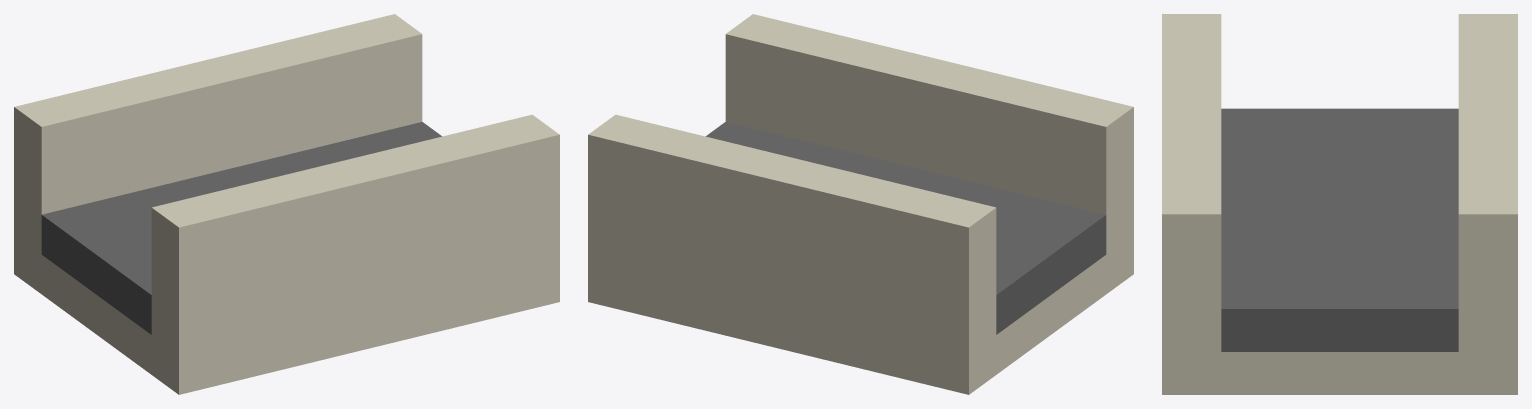
The model's file is roadTile_228.obj.
3 views of the same model, side by side, from view 1: azimuth 30°, elevation 25°; view 2: azimuth 150°, elevation 25°; view 3: azimuth 270°, elevation 25° (orthographic). The views are drawn at different scales.
Parts seen in each view (by area): view 1: Mesh1_Group1_Model.227; view 2: Mesh1_Group1_Model.227; view 3: Mesh1_Group1_Model.227.
Boxes of the visible parts, x1,y1,x2,y2 form: Mesh1_Group1_Model.227: (14, 14, 559, 394); Mesh1_Group1_Model.227: (588, 14, 1133, 394); Mesh1_Group1_Model.227: (1162, 14, 1517, 394).
Bounding box in the file's own units: 3 × 1.26 × 2.25.
